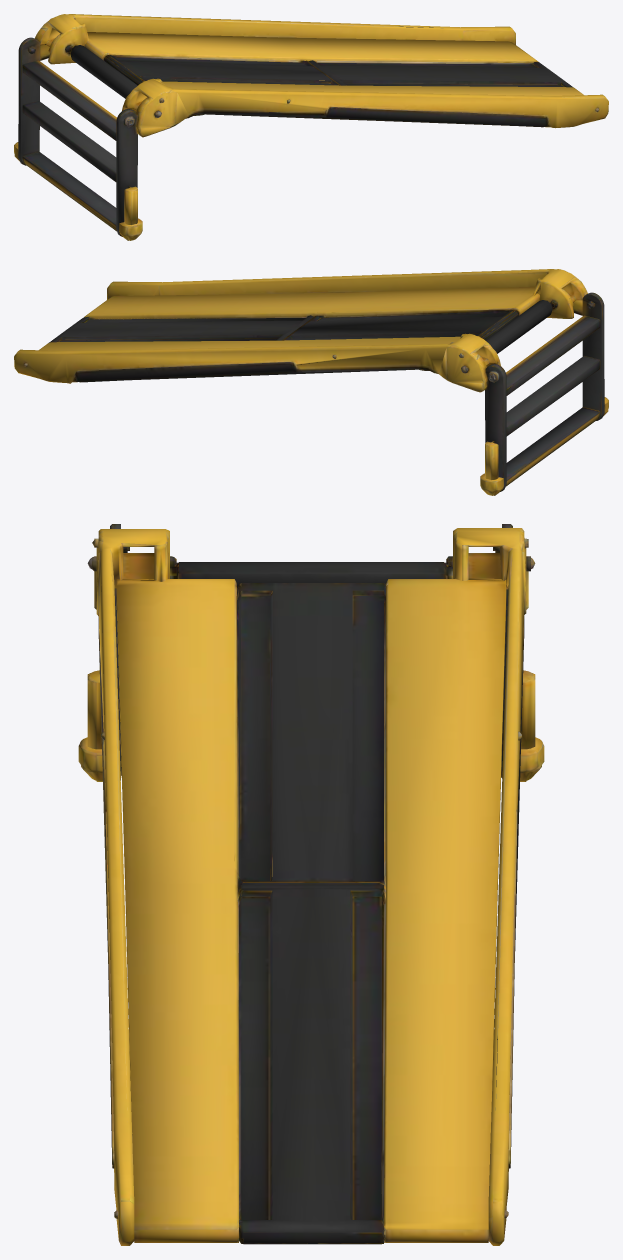
Rendered from ramp.glb.
3 renders of one model, top to bottom at view 1: azimuth 30°, elevation 25°; view 2: azimuth 150°, elevation 25°; view 3: azimuth 270°, elevation 25°, orthographic. The views are drawn at different scales.
Parts seen in each view (by area): view 1: tripo_node_aab23f4c-e464-43ef-a5ce-bd5ac7c18659; view 2: tripo_node_aab23f4c-e464-43ef-a5ce-bd5ac7c18659; view 3: tripo_node_aab23f4c-e464-43ef-a5ce-bd5ac7c18659.
Boxes of the visible parts, x1,y1,x2,y2 form: tripo_node_aab23f4c-e464-43ef-a5ce-bd5ac7c18659: (14,14,608,240); tripo_node_aab23f4c-e464-43ef-a5ce-bd5ac7c18659: (14,269,608,495); tripo_node_aab23f4c-e464-43ef-a5ce-bd5ac7c18659: (78,524,544,1245).
Bounding box in the file's own units: 0.998 × 0.2715 × 0.4082.
Materials: 1 (1 with a texture image).
